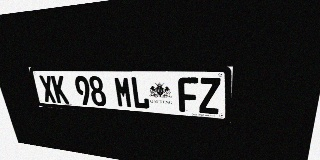8: (88, 76, 107, 106)
9: (74, 76, 93, 105)
F: (178, 77, 198, 113)
K: (51, 75, 69, 104)
L: (130, 77, 150, 109)
M: (113, 76, 133, 108)
X: (38, 75, 57, 103)
Z: (199, 77, 221, 114)
